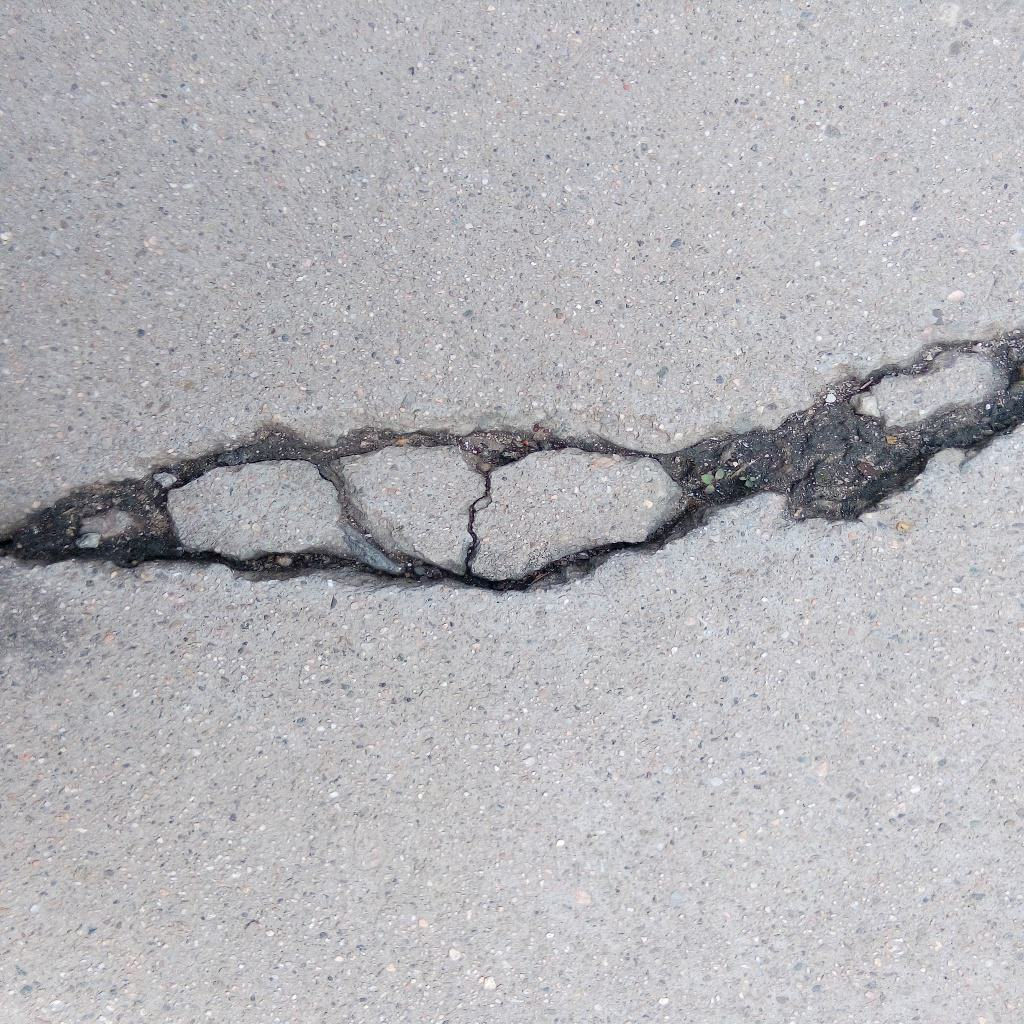Spalling: (1, 327, 1024, 595)
